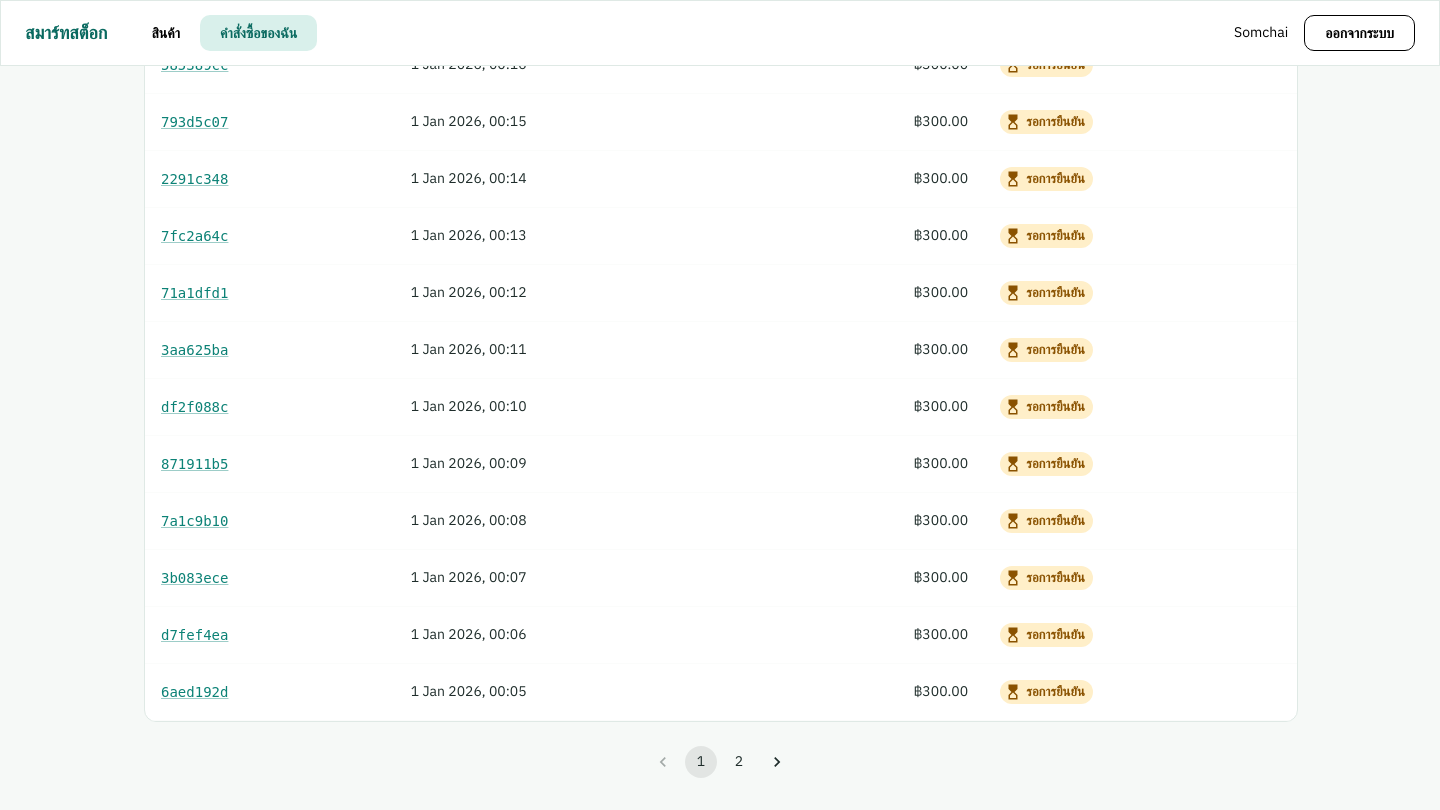
Test: paginates after 20 orders
(page scrolled)
Click the button named "page 2" at coordinates (739, 762), box [723,746,755,778]
(page scrolled)
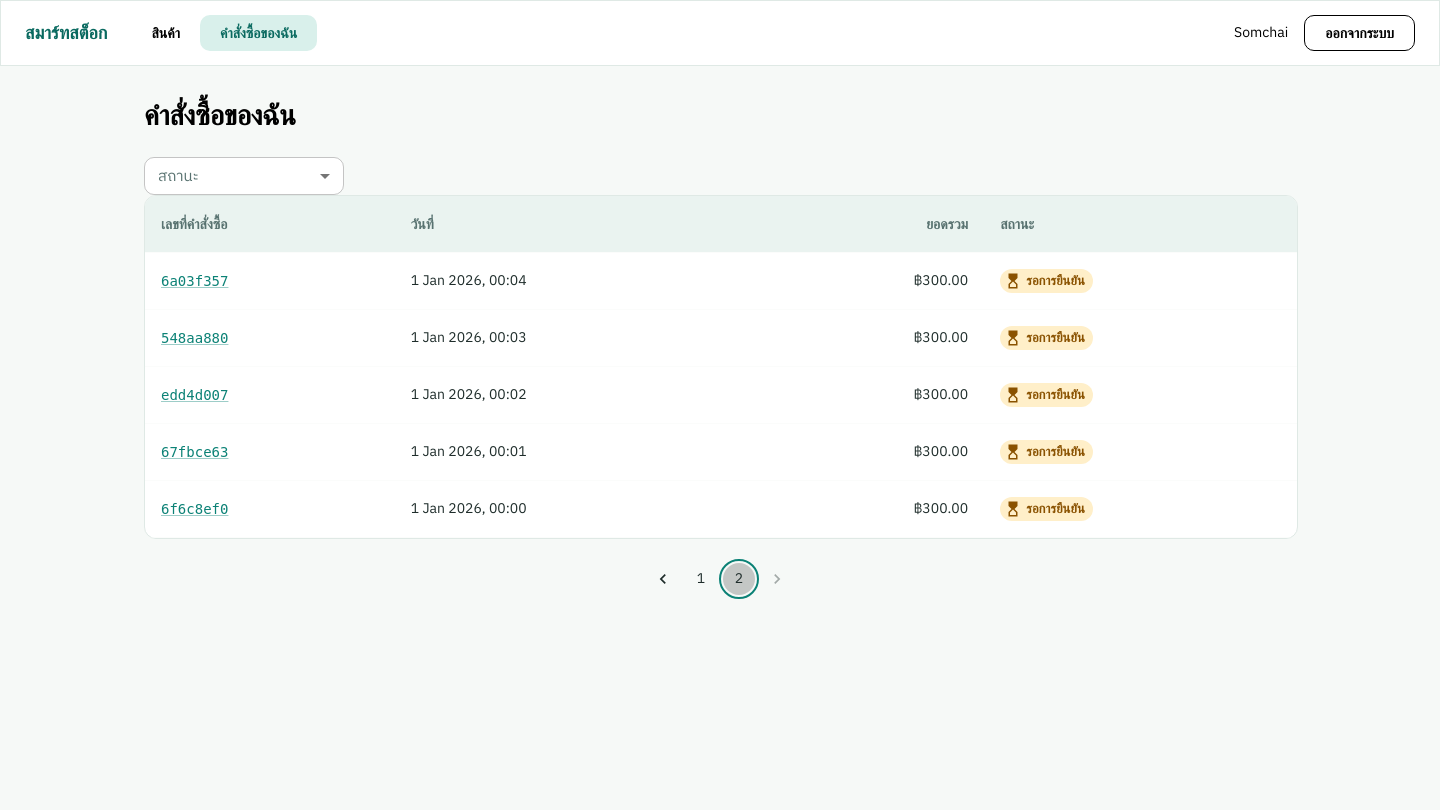
Expected: the number of rows is 6, [145,196,1297,253]; [145,253,1297,310]; [145,310,1297,367]; [145,367,1297,424]; [145,424,1297,481]; [145,481,1297,538]
